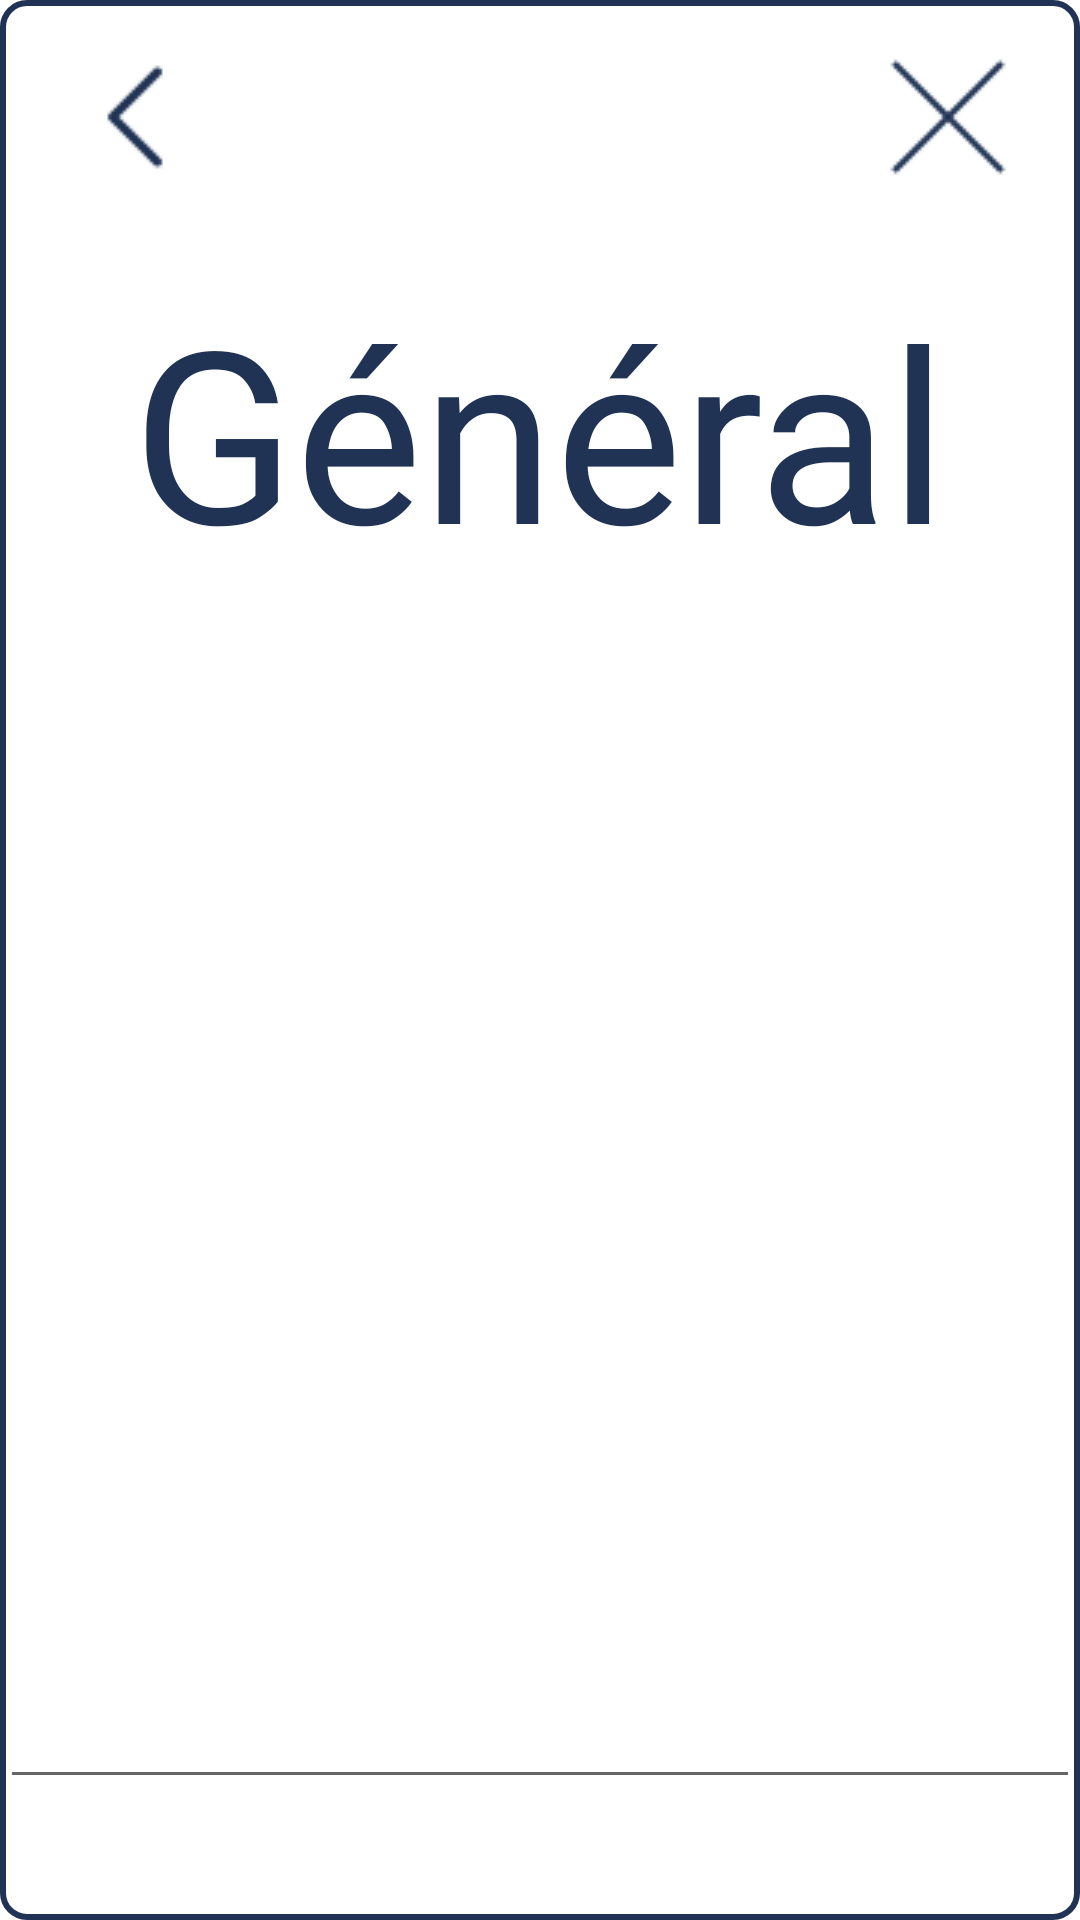

Screen size 1080x1920. Icon name, then its center in pixels as (x=x, y=y):
exit: (x=948, y=117)
